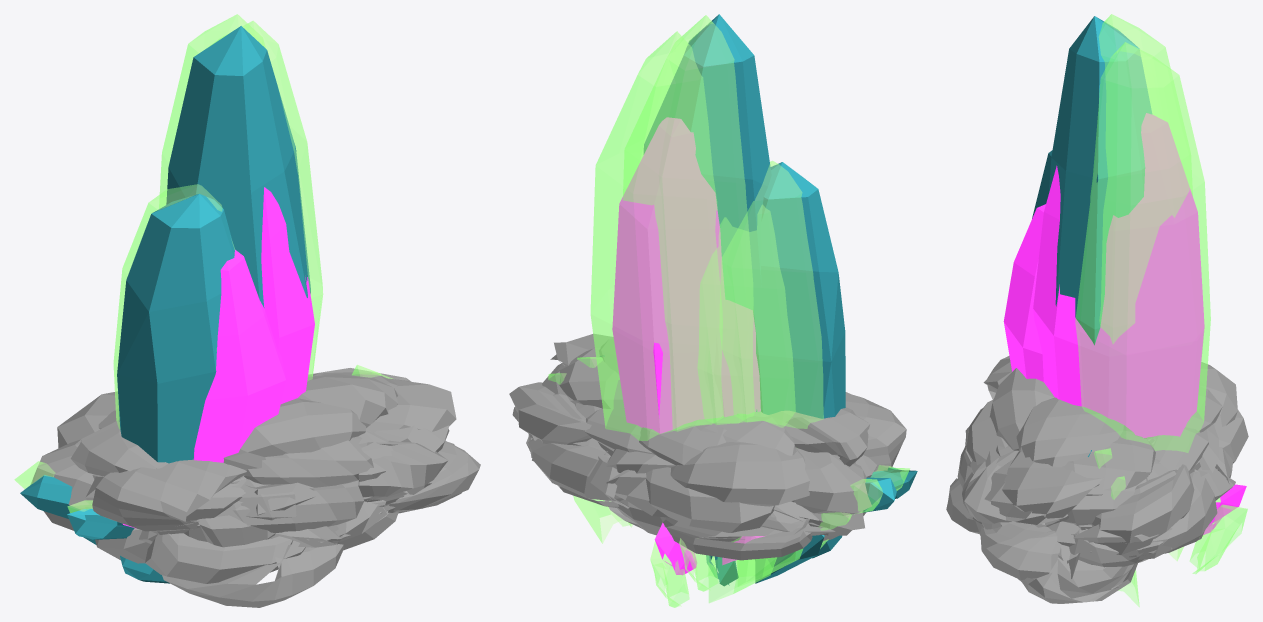
File: XRYSTAL8.gltf
The picture shows the model from 3 angles, left to right: view 1: azimuth 30°, elevation 25°; view 2: azimuth 150°, elevation 25°; view 3: azimuth 270°, elevation 25°; orthographic projection. The views are drawn at different scales.
Parts seen in each view (by area): view 1: Cube.001, Circle.003, Circle, Circle.001, Circle.002; view 2: Circle.002, Circle.001, Cube.001, Circle.003, Circle; view 3: Circle.002, Cube.001, Circle, Circle.003, Circle.001.
Boxes of the visible parts, box(x1,y1,x2,y2) form: Cube.001: box(30, 368, 480, 607); Circle.003: box(20, 26, 310, 583); Circle: box(123, 187, 314, 528); Circle.001: box(14, 14, 381, 512); Circle.002: box(209, 21, 392, 380); Circle.002: box(548, 31, 851, 607); Circle.001: box(577, 15, 909, 591); Cube.001: box(509, 334, 906, 560); Circle.003: box(600, 14, 917, 586); Circle: box(612, 117, 764, 575); Circle.002: box(1075, 42, 1247, 606); Cube.001: box(946, 356, 1248, 603); Circle: box(1003, 113, 1246, 534); Circle.003: box(1032, 16, 1151, 456); Circle.001: box(1094, 14, 1220, 535).
Bounding box in the file's own units: 3.83 × 5.11 × 2.47.
